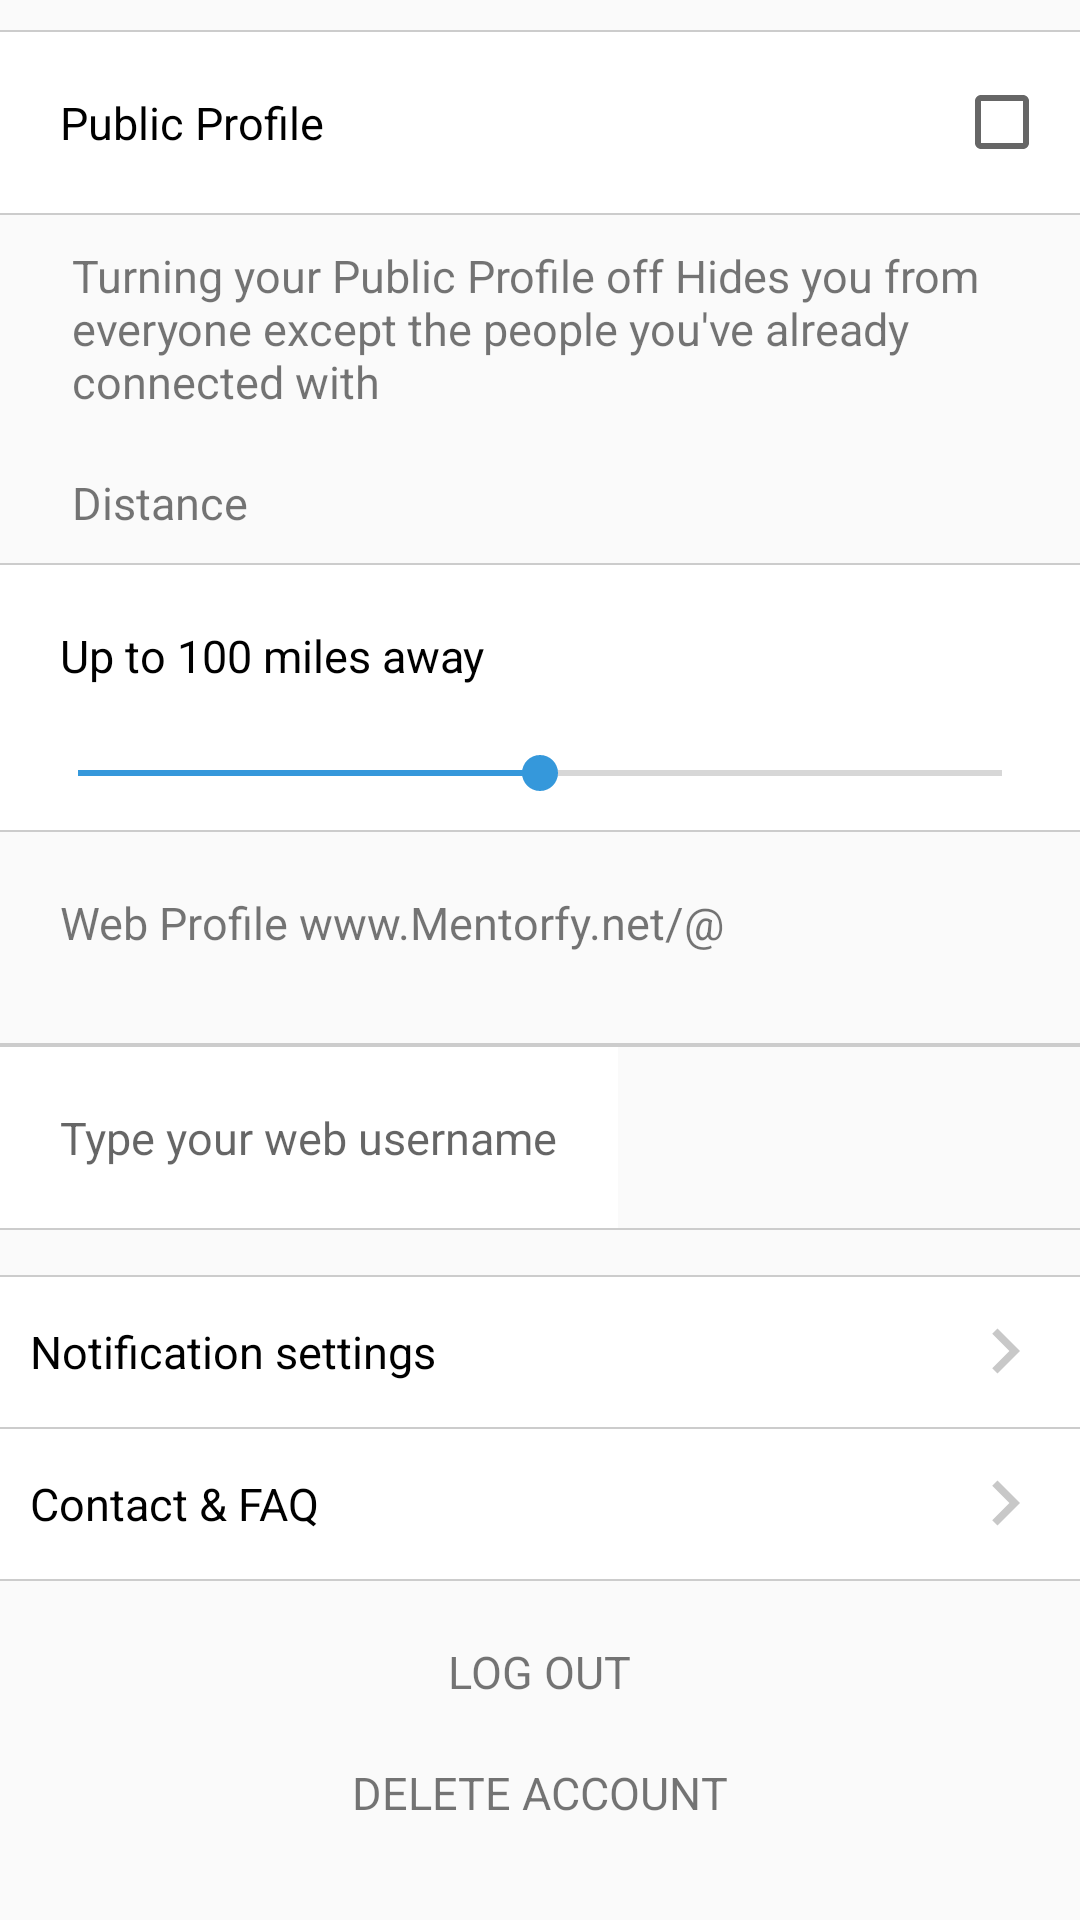

Screen size 1080*1920. Icon name, then its center in pixels as (x=x, y=y):
keyboard arrow right: (x=1006, y=1351), (x=1006, y=1503)
